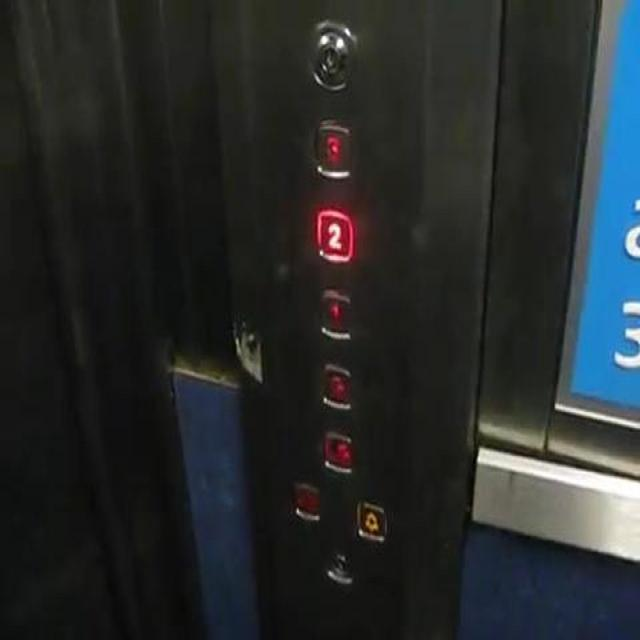2: (312, 203, 355, 265)
3: (310, 114, 352, 182)
alarm: (353, 496, 387, 544)
blur: (316, 284, 353, 343), (318, 357, 352, 412), (320, 424, 354, 475), (290, 476, 321, 524)
keyhole: (301, 13, 358, 92), (324, 543, 353, 585)
